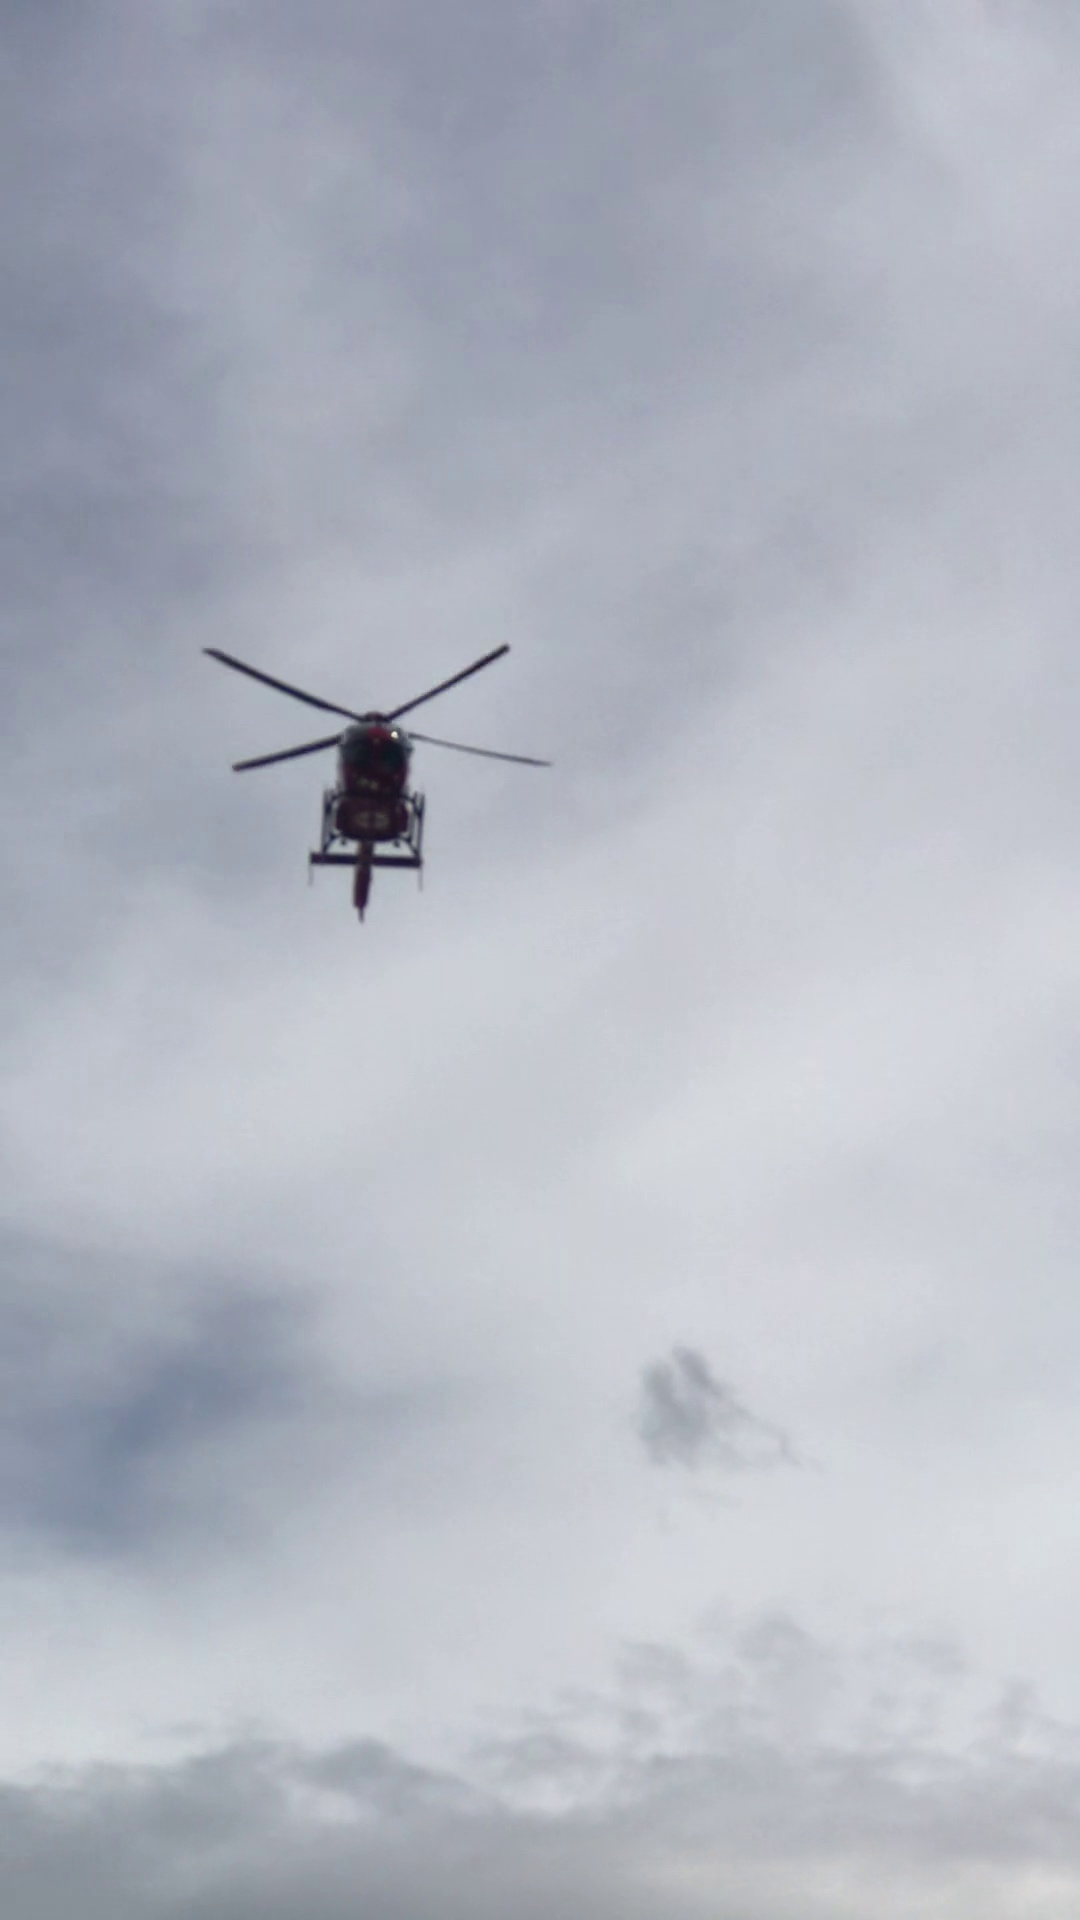heli: (204, 640, 554, 922)
